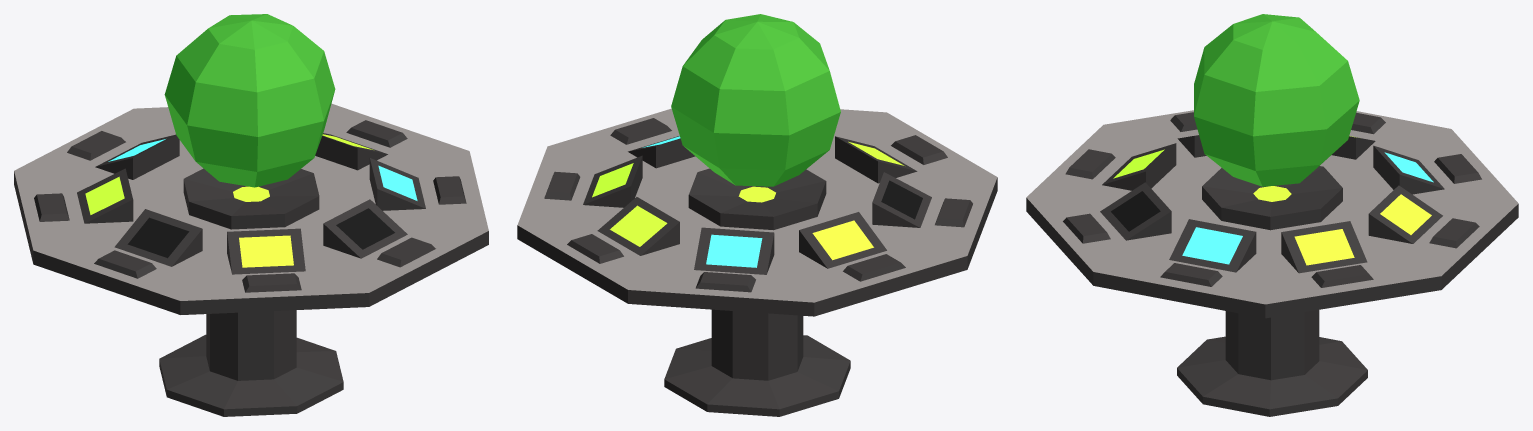
Rendered from scifi_scifi-table-round-control.fbx.
3 renders of one model, left to right at view 1: azimuth 30°, elevation 25°; view 2: azimuth 150°, elevation 25°; view 3: azimuth 270°, elevation 25°, orthographic.
Parts seen in each view (by area): view 1: scifi_scifi_table_round_control; view 2: scifi_scifi_table_round_control; view 3: scifi_scifi_table_round_control.
Boxes of the visible parts, x1,y1,x2,y2 form: scifi_scifi_table_round_control: (14, 14, 488, 416); scifi_scifi_table_round_control: (517, 14, 997, 416); scifi_scifi_table_round_control: (1026, 14, 1518, 416).
Size of the model in its own units: 200 by 159 by 200.
